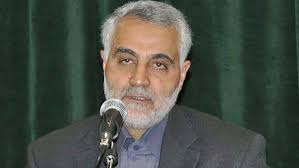middle_eastern_male: (106, 8, 193, 126)
